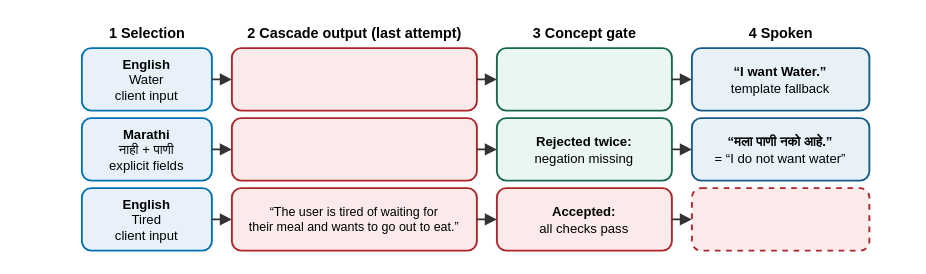
The diagram is 926 pixels wide and 274 high, and some of its shapes have lost their labels. The centre of each missing label's shape, as x and y in pixels:
"Rejected twice: selected concept missing" goes at point 583,79.
"same sentence is spoken gate miss: third person, content added" goes at point 780,219.
"“I need food.” a selected concept is replaced" goes at point 353,79.
"“मला पाणी हवे आहे.” = “I want water”: polarity inverted" goes at point 353,149.
